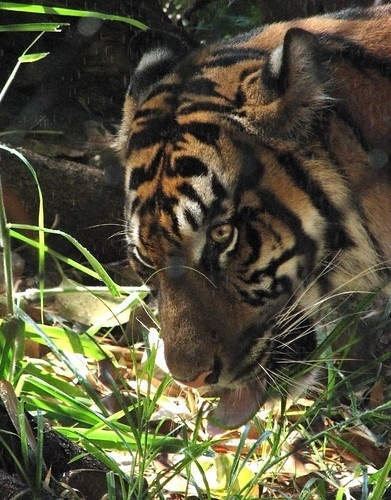tigre: (112, 6, 391, 435)
